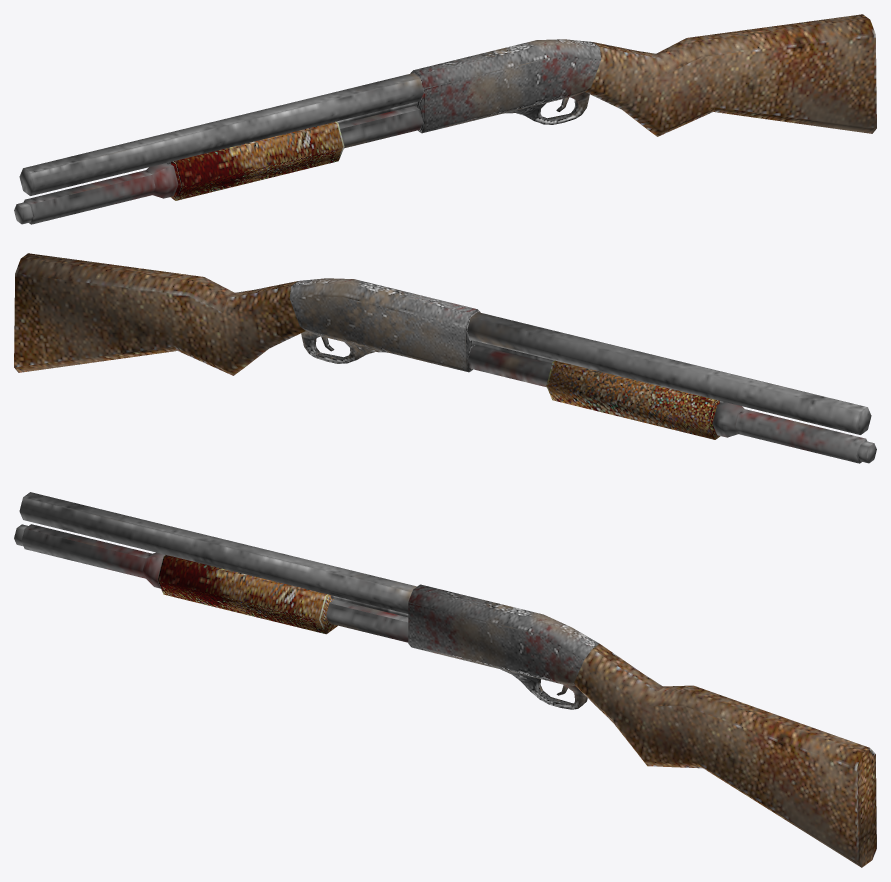
3 renders of one model, top to bottom at view 1: azimuth 30°, elevation 25°; view 2: azimuth 150°, elevation 25°; view 3: azimuth 330°, elevation 25°, orthographic.
Visible parts, largest first — view 1: Cube.001, Cube.004, Cylinder.001-0, Cylinder.005, Cylinder.004; view 2: Cube.001, Cube.004, Cylinder.001-0, Cylinder.005, Cylinder.004; view 3: Cube.001, Cube.004, Cylinder.001-0, Cylinder.005, Cylinder.004.
Part boxes in pixels (x1=…): Cube.001: x1=585, y1=14, x2=876, y2=136; Cube.004: x1=410, y1=39, x2=601, y2=133; Cylinder.001-0: x1=19, y1=73, x2=423, y2=195; Cylinder.005: x1=170, y1=121, x2=344, y2=200; Cylinder.004: x1=14, y1=106, x2=422, y2=224; Cube.001: x1=14, y1=253, x2=305, y2=375; Cube.004: x1=289, y1=278, x2=480, y2=372; Cylinder.001-0: x1=467, y1=312, x2=871, y2=434; Cylinder.005: x1=546, y1=360, x2=720, y2=439; Cylinder.004: x1=468, y1=345, x2=876, y2=463; Cube.001: x1=574, y1=643, x2=876, y2=867; Cube.004: x1=408, y1=584, x2=599, y2=709; Cylinder.001-0: x1=19, y1=492, x2=416, y2=613; Cylinder.005: x1=157, y1=555, x2=337, y2=634; Cylinder.004: x1=14, y1=524, x2=408, y2=642.
Bounding box in the file's own units: 1.01 × 0.19 × 0.0498.
Materials: 6 (6 with a texture image).
